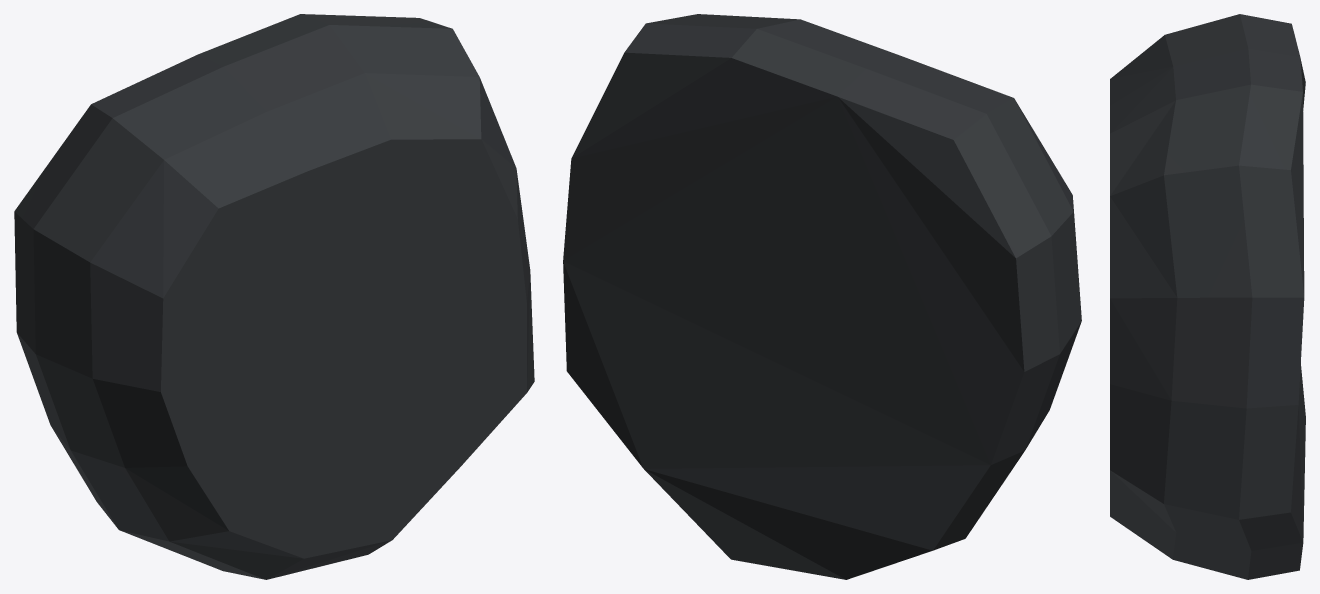
File: FERNSTONE_STAR.shadow.glb
3 views of the same model, side by side, from view 1: azimuth 30°, elevation 25°; view 2: azimuth 150°, elevation 25°; view 3: azimuth 270°, elevation 25° (orthographic). The views are drawn at different scales.
Visible parts, largest first — view 1: Body_Mesh; view 2: Body_Mesh; view 3: Body_Mesh.
Part boxes in pixels (bbox=[...]): Body_Mesh: bbox=[14, 14, 534, 579]; Body_Mesh: bbox=[563, 14, 1081, 579]; Body_Mesh: bbox=[1110, 14, 1305, 579].
Bounding box in the file's own units: 0.2711 × 0.2834 × 0.1018.
1 material, 1 textured.
